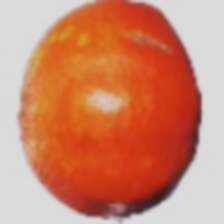tangerine: (34, 46, 201, 207)
